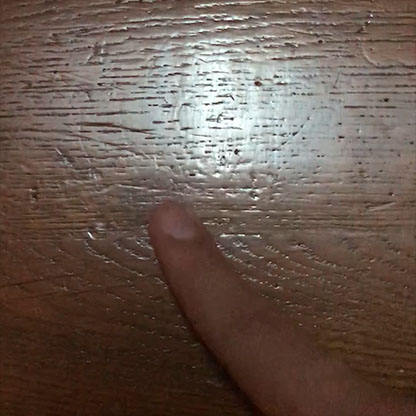fingertip: (132, 193, 224, 265)
